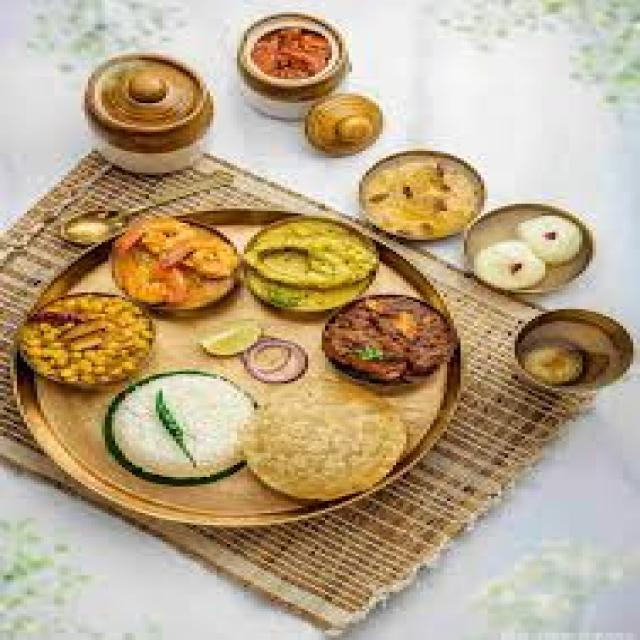curd: (92, 365, 269, 484)
dal: (245, 219, 387, 310)
pickle: (237, 22, 345, 87)
sweet: (449, 200, 599, 299)
veg-fry: (83, 207, 240, 320), (306, 293, 454, 390)
